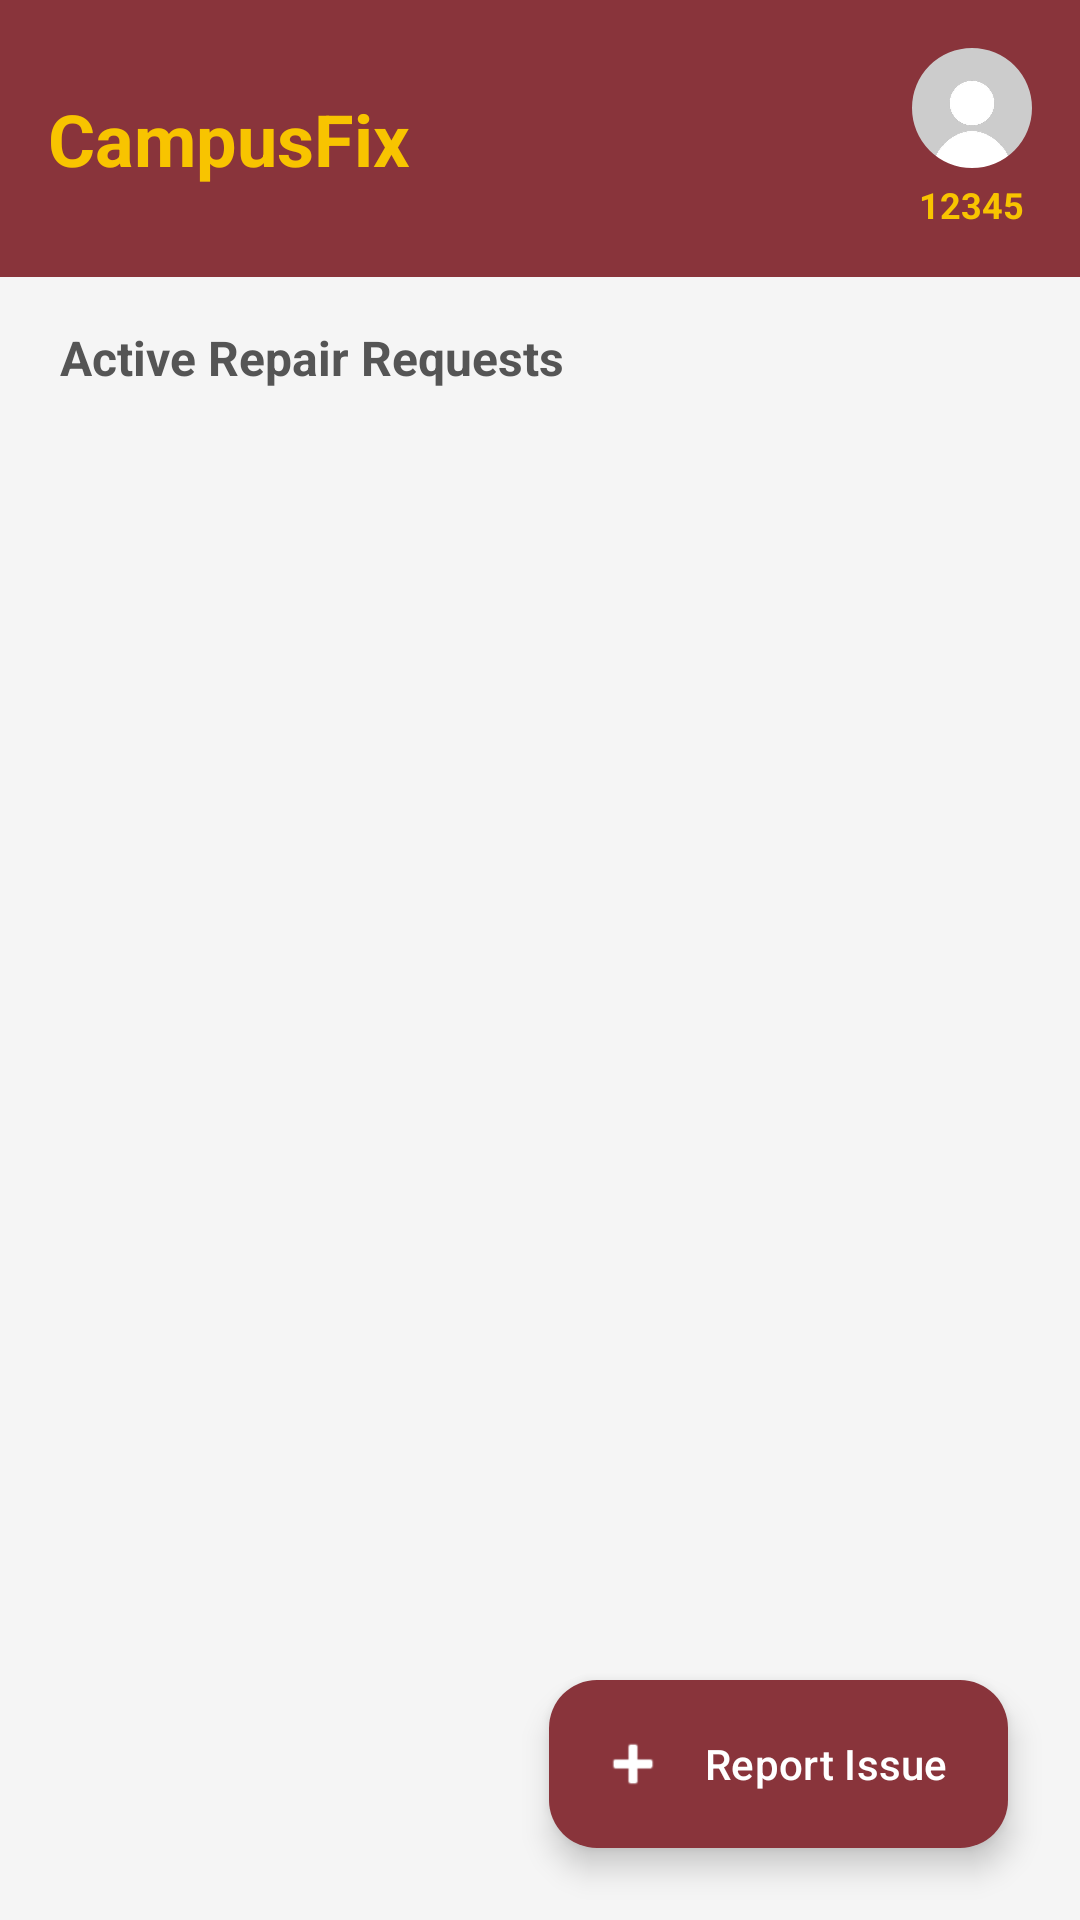

Locate icon controls on the screen. Image size 1080 × 1920, boxes as (x1, y1, x2, y2).
anonymous: (912, 48, 1032, 168)
